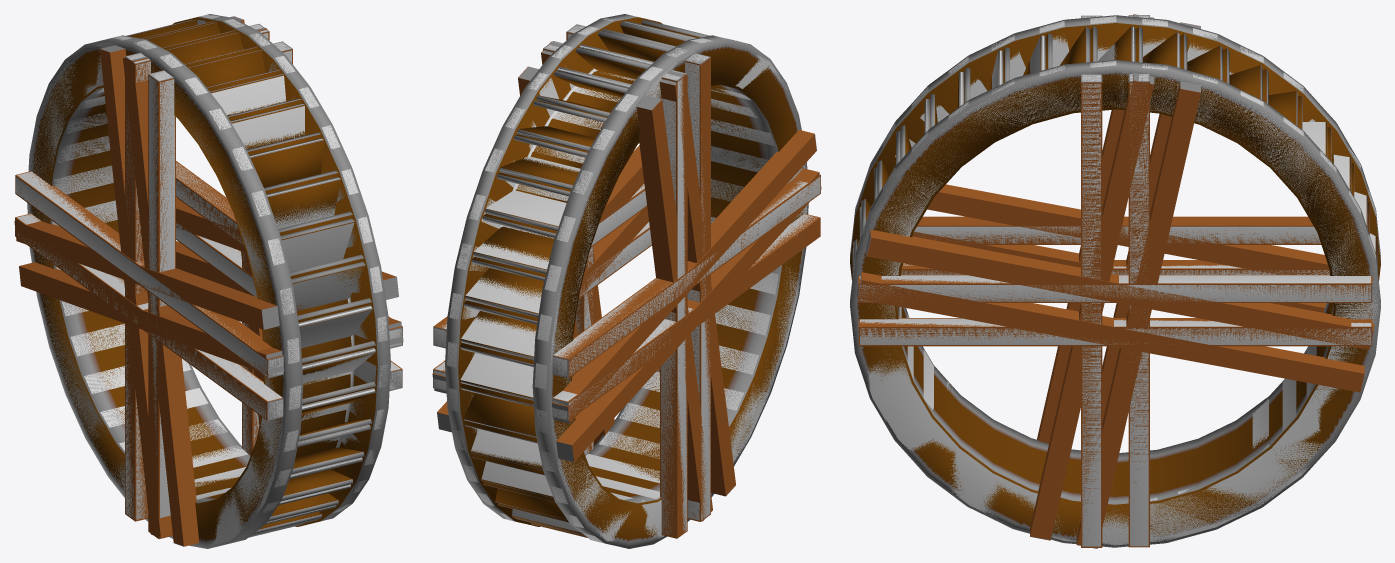
File: WaterWheel_action.fbx
3 renders of one model, left to right at view 1: azimuth 30°, elevation 25°; view 2: azimuth 150°, elevation 25°; view 3: azimuth 270°, elevation 25°, orthographic.
Parts seen in each view (by area): view 1: WasserRad, Rad_HP, Balken_HP, Balken, Rad, Paddl, Paddl_HP; view 2: WasserRad, Rad_HP, Rad, Balken, Balken_HP, Paddl_HP, Paddl; view 3: WasserRad, Balken_HP, Rad_HP, Rad, Balken, Paddl, Paddl_HP.
Boxes of the visible parts, <box> form: WasserRad: <box>14,14,403,548</box>; Rad_HP: <box>28,15,388,545</box>; Balken_HP: <box>15,24,401,519</box>; Balken: <box>15,24,402,538</box>; Rad: <box>27,14,390,548</box>; Paddl: <box>127,19,375,536</box>; Paddl_HP: <box>197,49,375,522</box>; WasserRad: <box>432,14,821,548</box>; Rad_HP: <box>447,18,807,542</box>; Rad: <box>445,14,807,548</box>; Balken: <box>433,24,820,538</box>; Balken_HP: <box>434,25,820,534</box>; Paddl_HP: <box>460,21,693,531</box>; Paddl: <box>460,20,709,537</box>; WasserRad: <box>850,14,1380,548</box>; Balken_HP: <box>859,15,1371,546</box>; Rad_HP: <box>852,16,1380,545</box>; Rad: <box>850,15,1380,547</box>; Balken: <box>858,15,1372,547</box>; Paddl: <box>852,26,1376,274</box>; Paddl_HP: <box>860,27,1375,252</box>.
Size of the model in its own units: 0.599 by 2 by 2.
